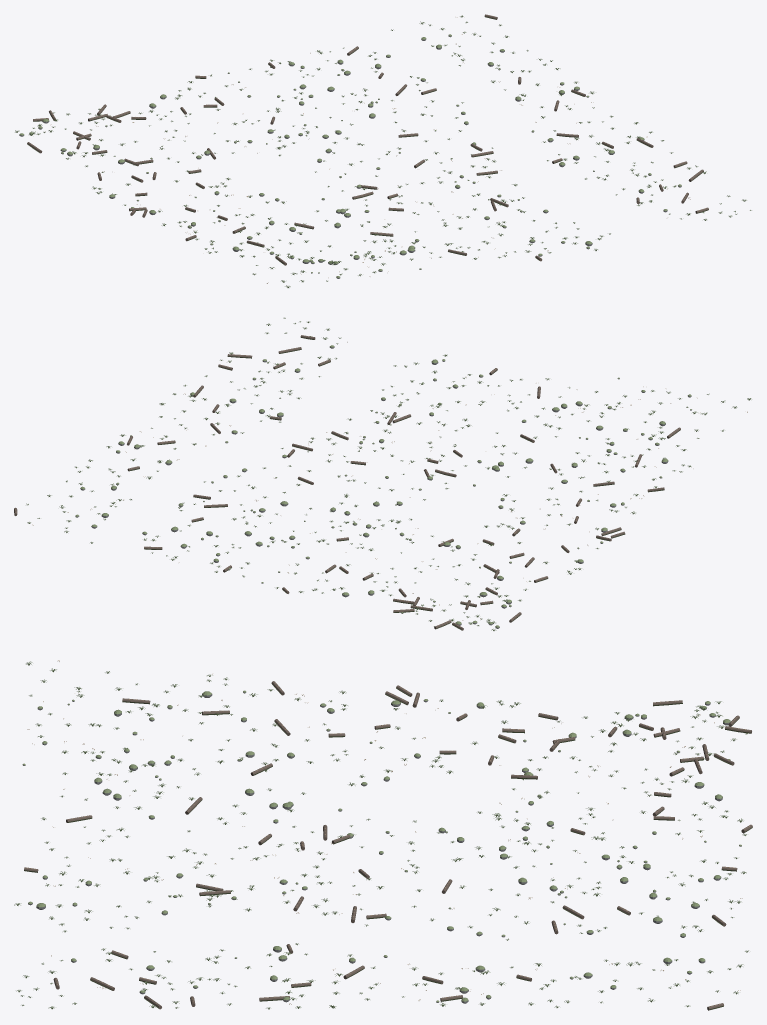
Rendered from Mist_Undergrowth.fbx.
3 views of the same model, one above another, from view 1: azimuth 30°, elevation 25°; view 2: azimuth 150°, elevation 25°; view 3: azimuth 270°, elevation 25° (orthographic). The views are drawn at different scales.
Visible parts, largest first — view 1: Mist_Undergrowth; view 2: Mist_Undergrowth; view 3: Mist_Undergrowth.
Boxes of the visible parts, x1=… form: Mist_Undergrowth: x1=15, y1=14, x2=751, y2=287; Mist_Undergrowth: x1=14, y1=317, x2=751, y2=630; Mist_Undergrowth: x1=14, y1=660, x2=752, y2=1010.
Bounding box in the file's own units: 162 × 14.41 × 162.
